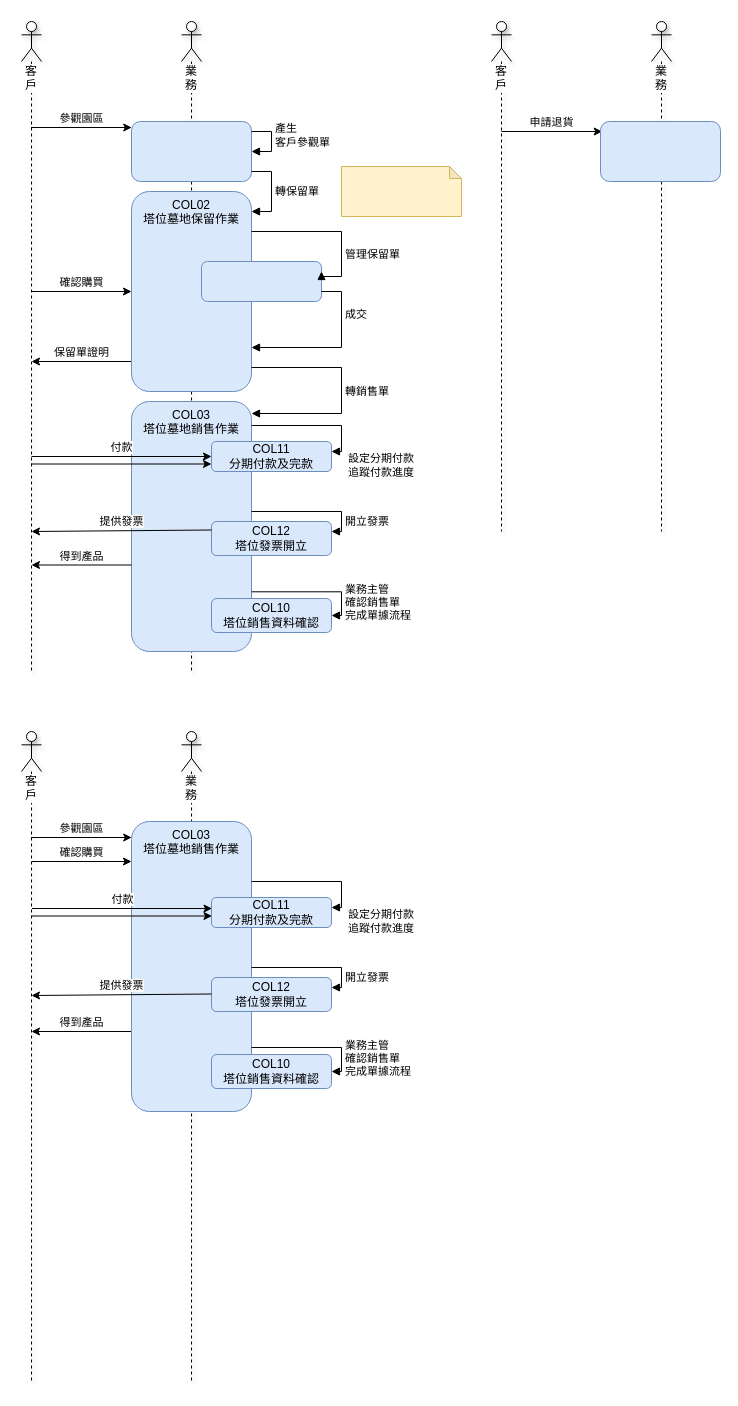
This 738x1406 diagram has some shape labels left out. The shapes that lost their labels are listed below. From the top down, each one's centre as x and y in pixels, then its label:
(x=191, y=151): COL18 承辦案件歸屬作業
(x=660, y=151): COL13 塔位銷退作業
(x=401, y=191): 管理 轉單 分為不同頁面作業?
(x=261, y=281): COL28 塔位備取客戶維護
